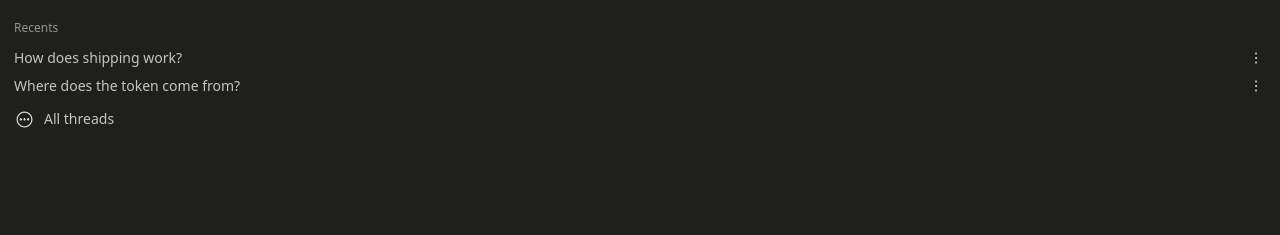
Scenario: Threads › the row menu › offers rename and delete, and closes on a click outside
Step 1. Click the button named "Actions for How does shipping work?" → coordinates (1256, 58), box [1244, 46, 1268, 70]
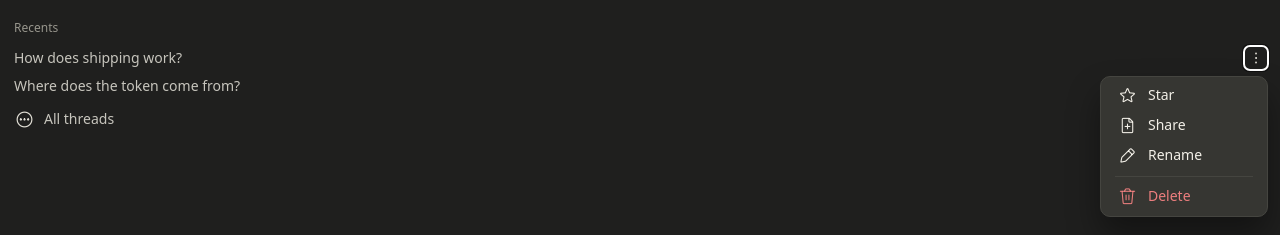
Expected: the menu item "Rename" is shown, [1105, 141, 1263, 171]
Expected: the menu item "Delete" is shown, [1105, 182, 1263, 212]
Step 2. Click the element that starts with "Recents" → coordinates (640, 74), box [0, 0, 1279, 148]
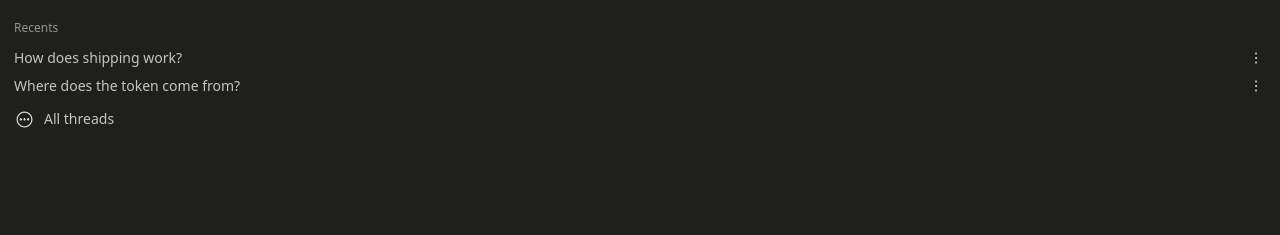
Expected: the menu is gone
